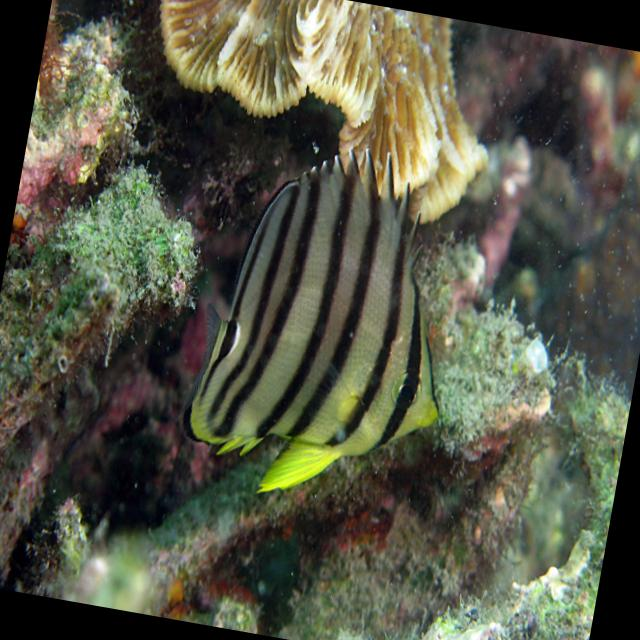ButterflyFish: (189, 139, 476, 506)
